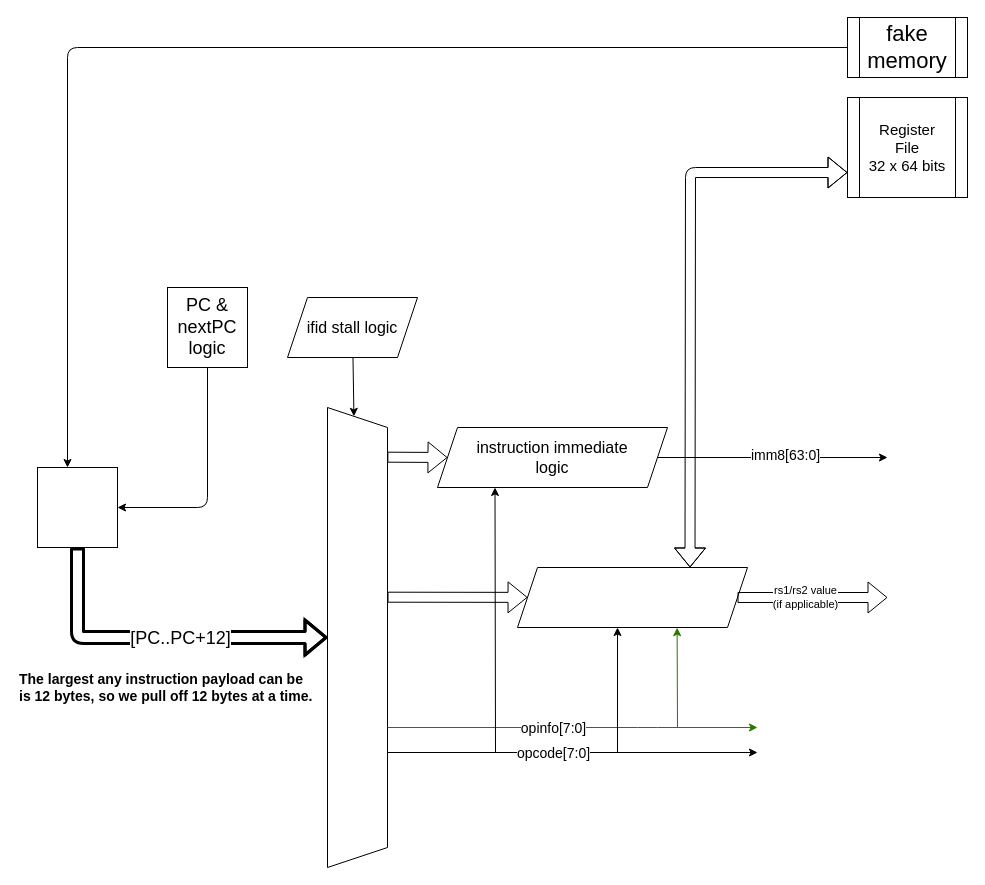
This 985x885 diagram has some shape labels left out. Each missing label, with the centre of its shape:
fetch -> decode latches: the point at 357,637
I$ 128B: the point at 77,507
rs1/rs2 pre-read logic: the point at 632,597
